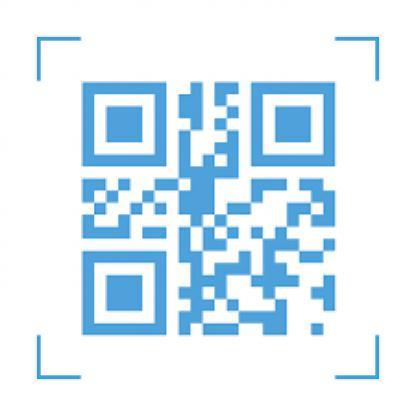qr_code: (81, 82, 336, 336)
